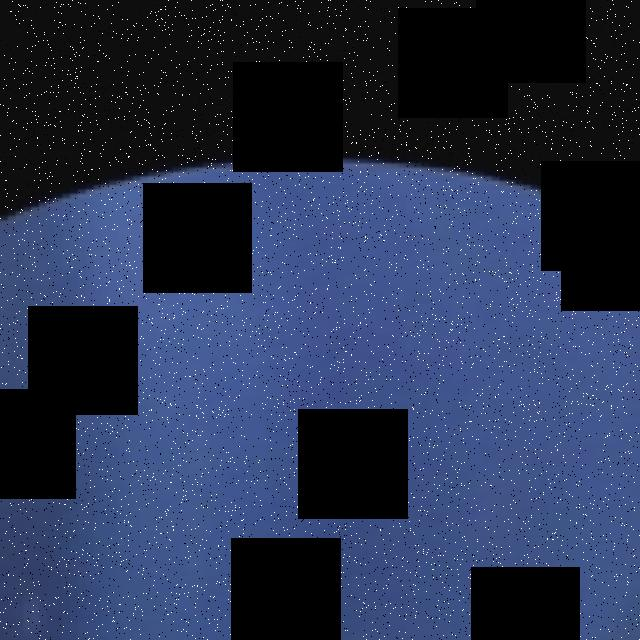Neptune: (0, 153, 640, 640)
